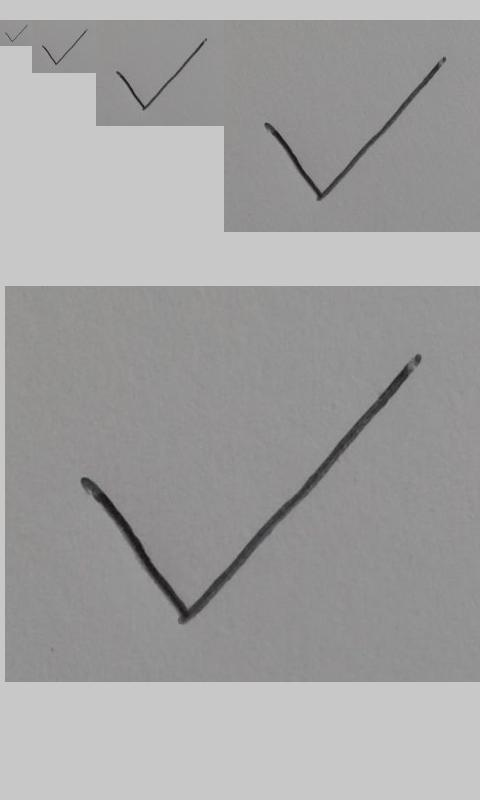check_box: (84, 357, 420, 622), (263, 56, 447, 200), (116, 38, 208, 111), (42, 29, 88, 65), (5, 25, 28, 42)
